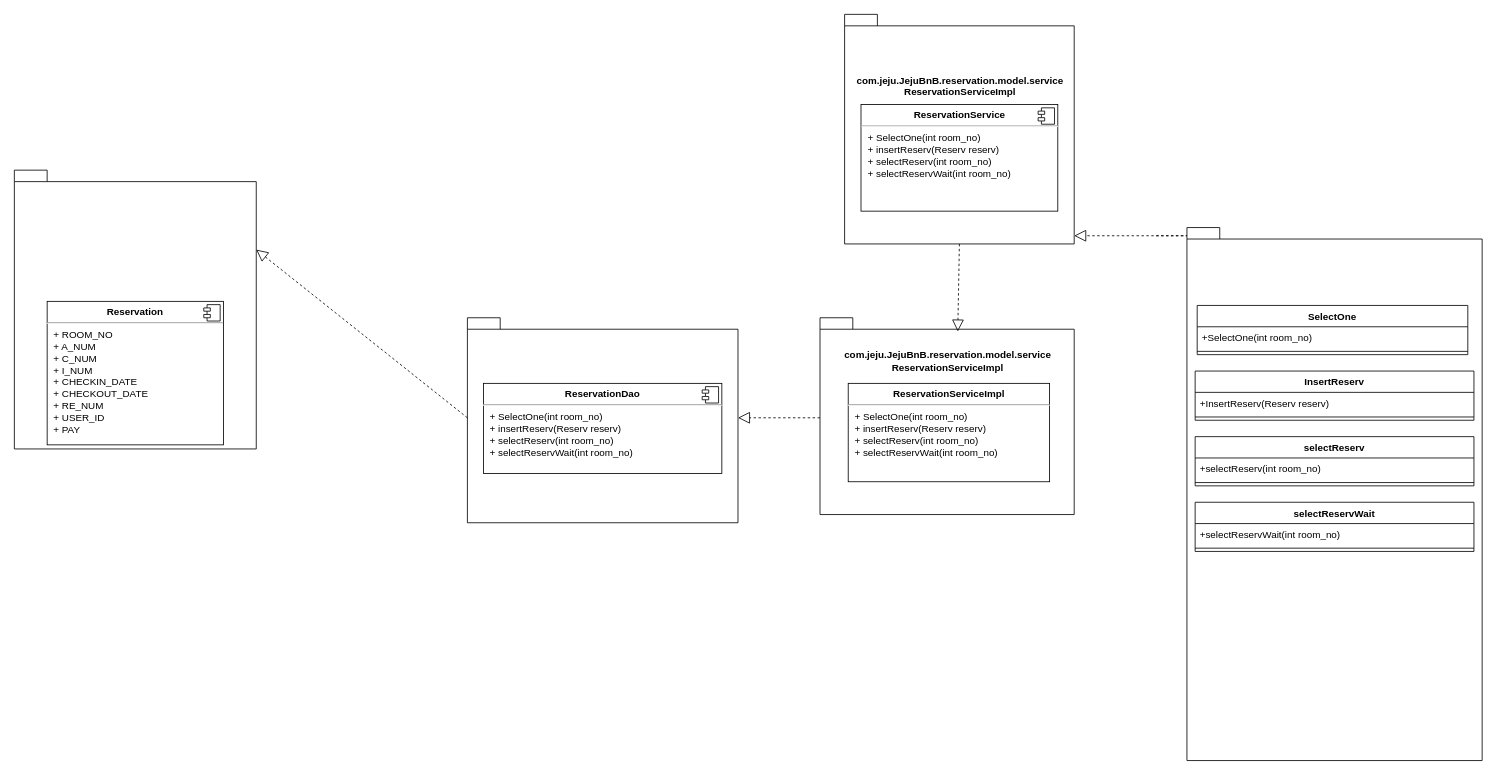
Image size: 1497x775. Some labels were removed from this diagram. Here are the shapes that lost their labels. From the top down, the box of each, then its label:
(14, 169, 256, 449): com.jeju.JejuBnB.reservation.model.vo Reservation
(467, 317, 738, 523): com.jeju.JejuBnB.reservation.model.dao ReservationDao
(1186, 227, 1482, 761): com.jeju.JejuBnB.reservation.controller ReservationController
